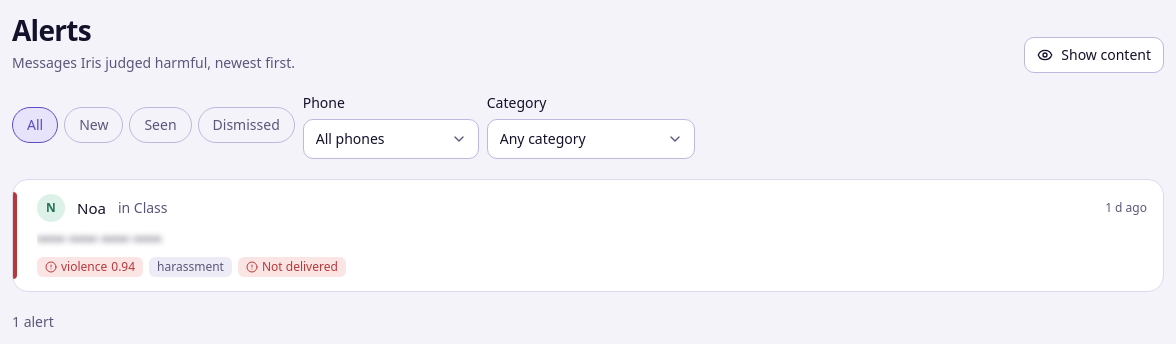
Test case: lists alerts with who, where, what was said and what state they are in
The image size is (1176, 344).
Expected: the text "I will find you" is not shown
Click the button "Show content".
click(1094, 55)  # box [1024,37,1164,73]
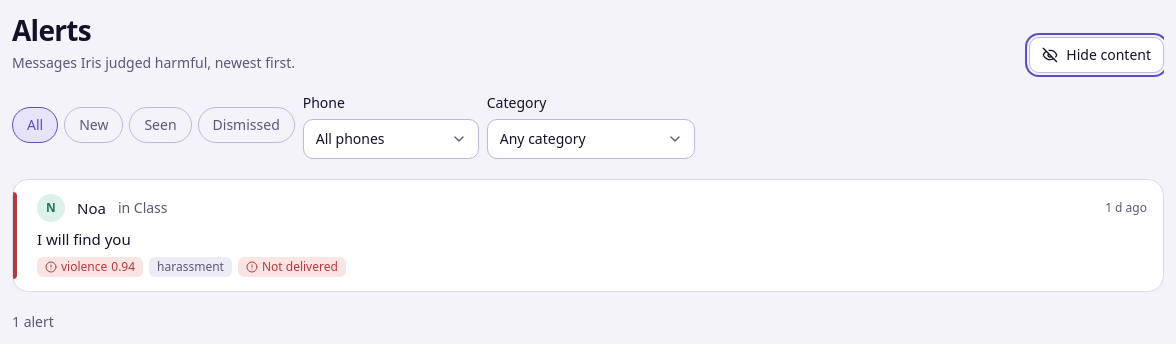
Expected: the text "in Class" is shown, [118,198,168,218]
Expected: the text "I will find you" is shown, [37,229,131,249]
